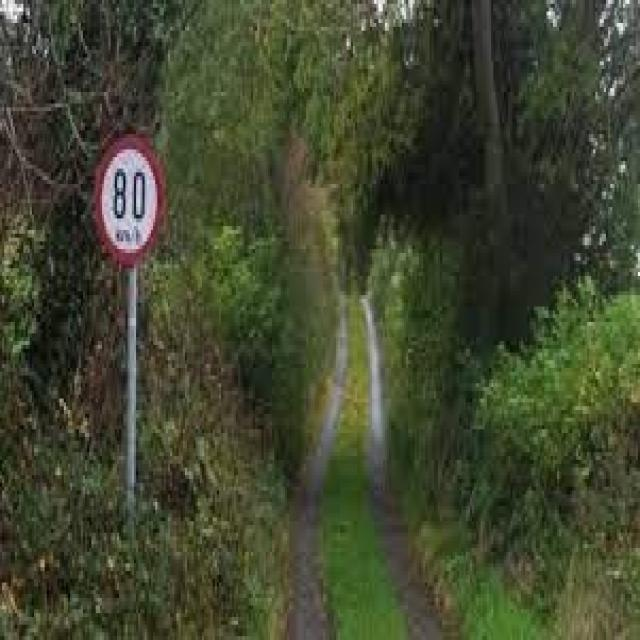speed_limit_80: (93, 130, 166, 274)
